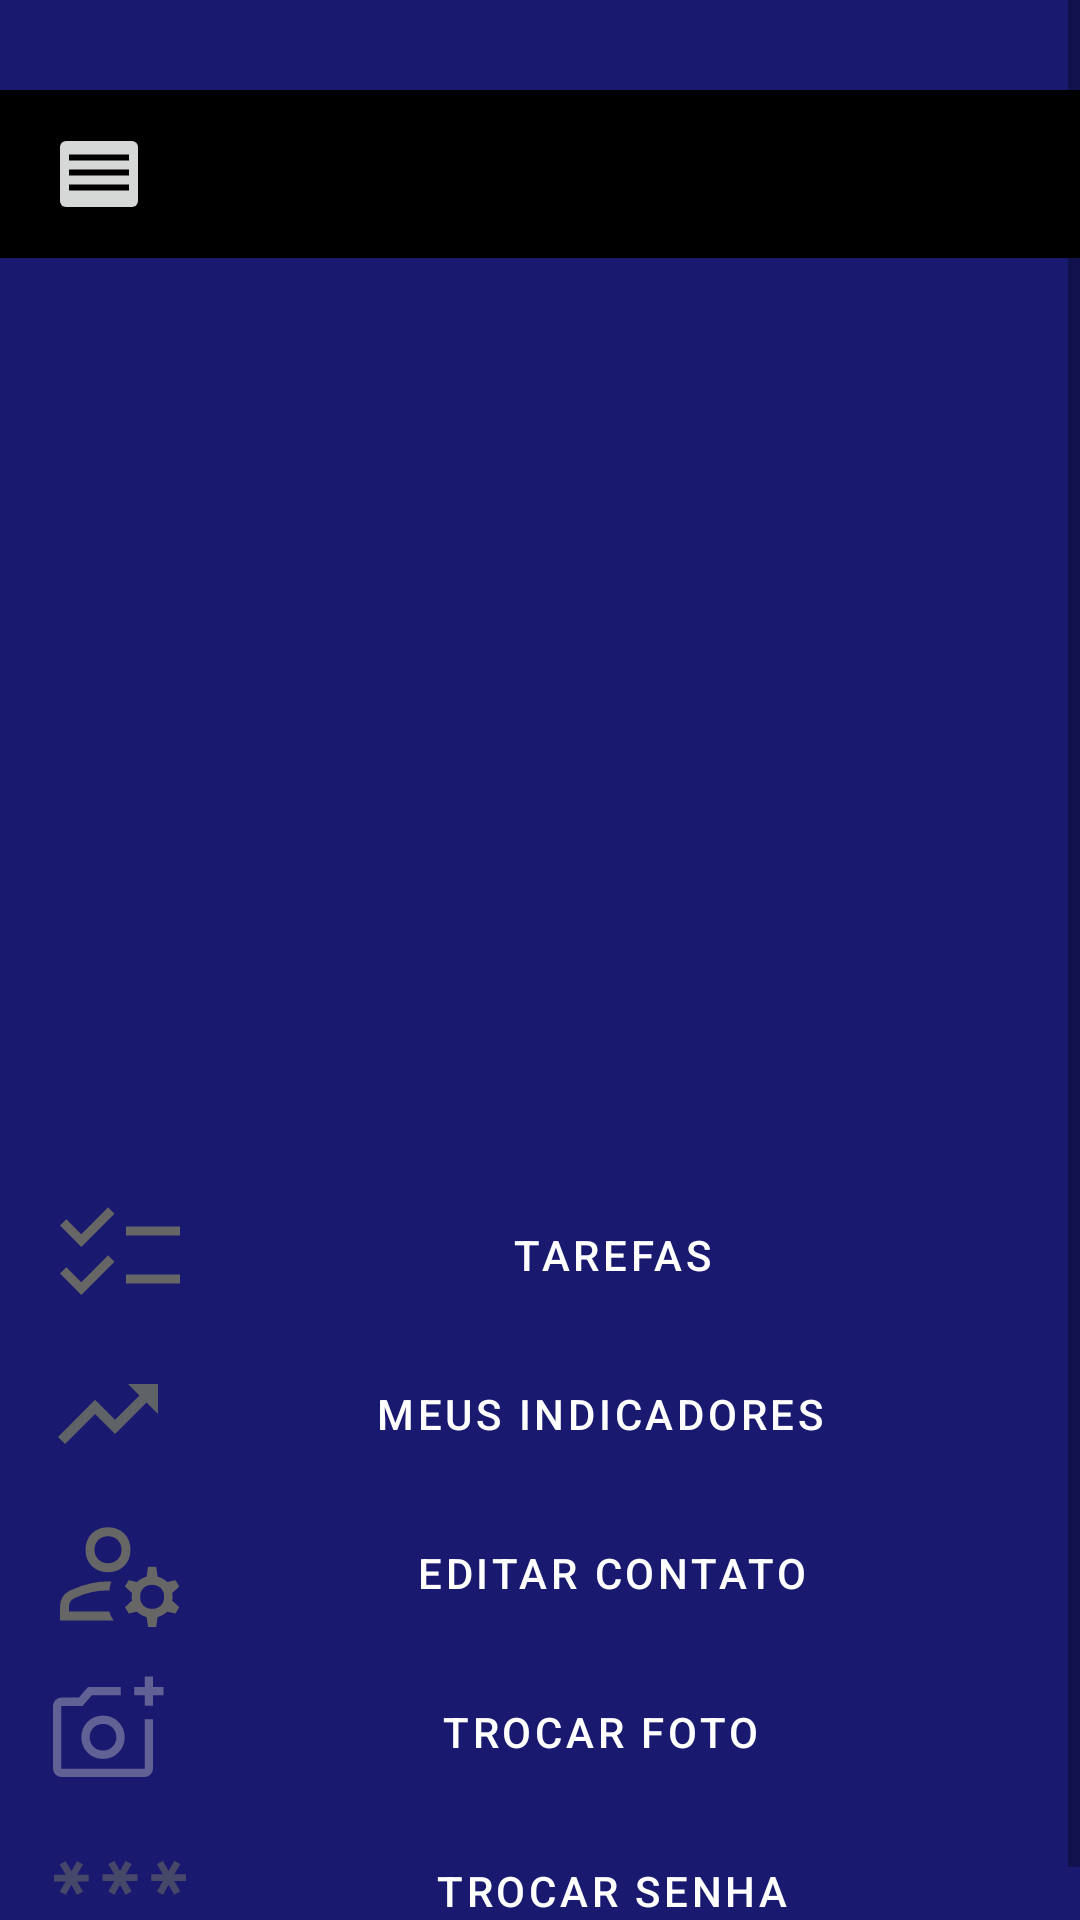

Where to tap for icons on this 1080*1920 app screen, as [x,y]:
menu: [99,174]
